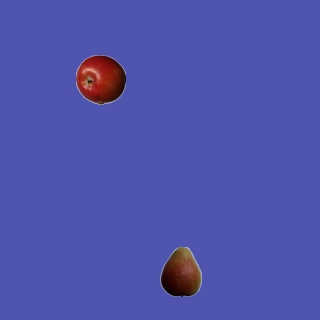Apple Braeburn: (75, 54, 125, 104)
Pear Forelle: (155, 246, 205, 296)
